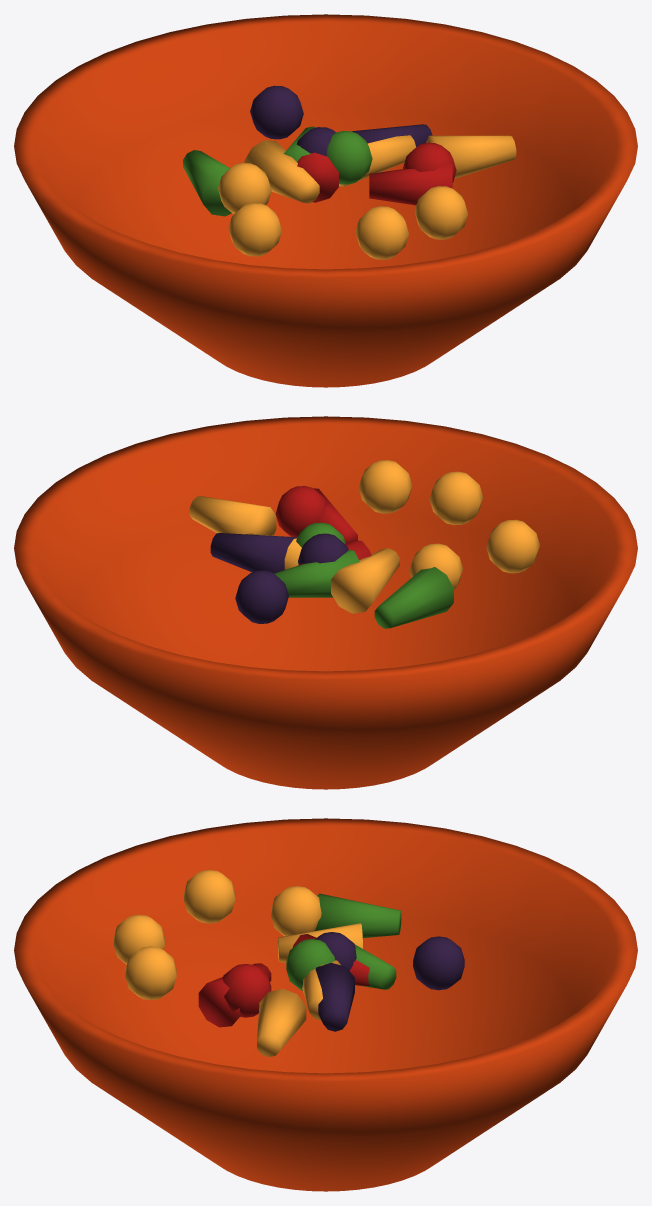
File: candy_bowl.obj
The picture shows the model from 3 angles, top to bottom: view 1: azimuth 30°, elevation 25°; view 2: azimuth 150°, elevation 25°; view 3: azimuth 270°, elevation 25°; orthographic projection.
Visible parts, largest first — view 1: LH_candy_bowl; view 2: LH_candy_bowl; view 3: LH_candy_bowl.
Part boxes in pixels (x1,y1,x2,y2): LH_candy_bowl: [14, 14, 637, 387]; LH_candy_bowl: [14, 416, 637, 789]; LH_candy_bowl: [14, 818, 637, 1191].
Size of the model in its own units: 0.3 by 0.108 by 0.3.
